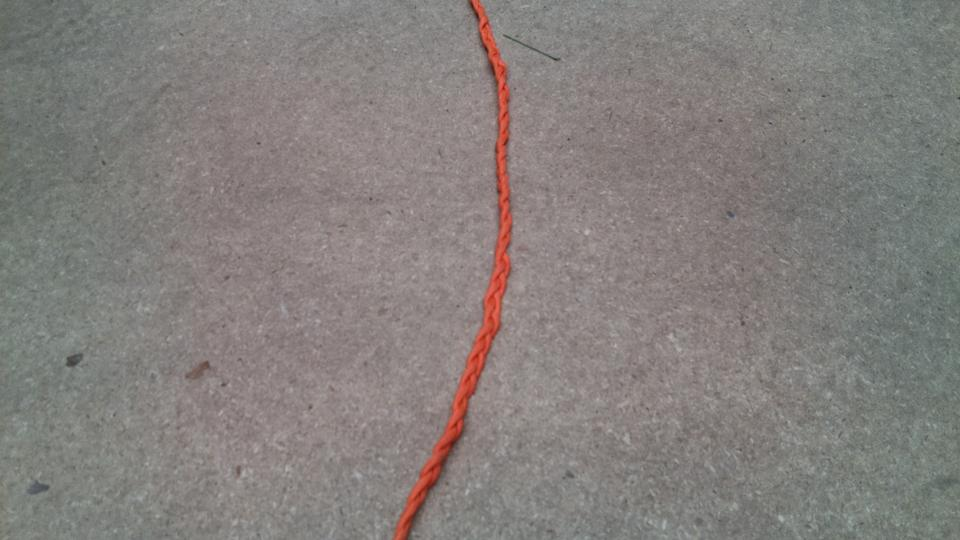rope: (383, 1, 518, 540)
